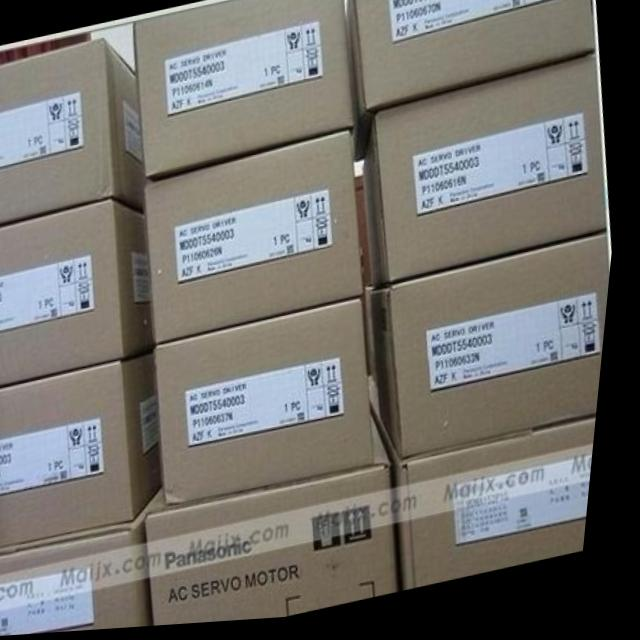box: (366, 64, 612, 293), (378, 243, 617, 466), (158, 419, 410, 629), (150, 135, 370, 346), (162, 306, 383, 511), (135, 0, 356, 181), (347, 0, 598, 147), (399, 423, 605, 596), (0, 353, 174, 557), (0, 200, 162, 391), (0, 40, 151, 226), (0, 492, 177, 637)
